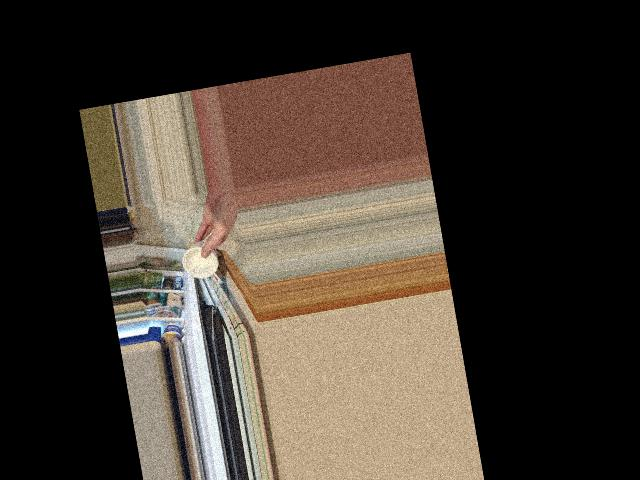cotage: (179, 235, 221, 285)
